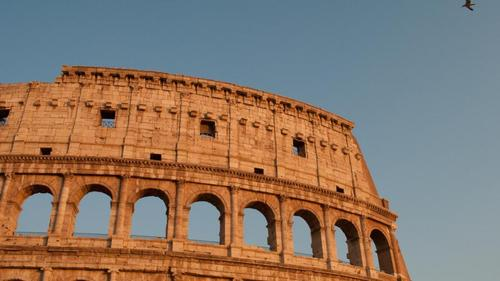buildings: (0, 54, 420, 275)
